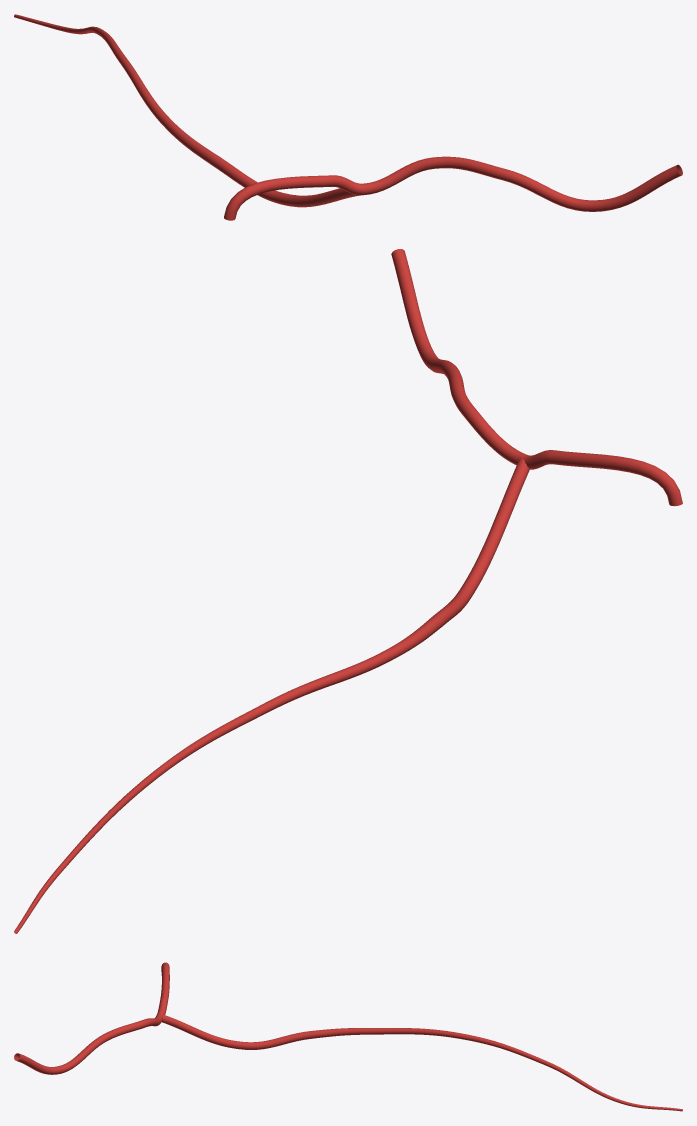
3 renders of one model, top to bottom at view 1: azimuth 30°, elevation 25°; view 2: azimuth 150°, elevation 25°; view 3: azimuth 270°, elevation 25°, orthographic. The views are drawn at different scales.
Visible parts, largest first — view 1: 左侧阴部外浅动脉; view 2: 左侧阴部外浅动脉; view 3: 左侧阴部外浅动脉.
Part boxes in pixels (x1,y1,x2,y2): 左侧阴部外浅动脉: (14, 14, 682, 220); 左侧阴部外浅动脉: (14, 249, 682, 933); 左侧阴部外浅动脉: (14, 962, 682, 1111).
Bounding box in the file's own units: 0.0706 × 0.0327 × 0.1728.
